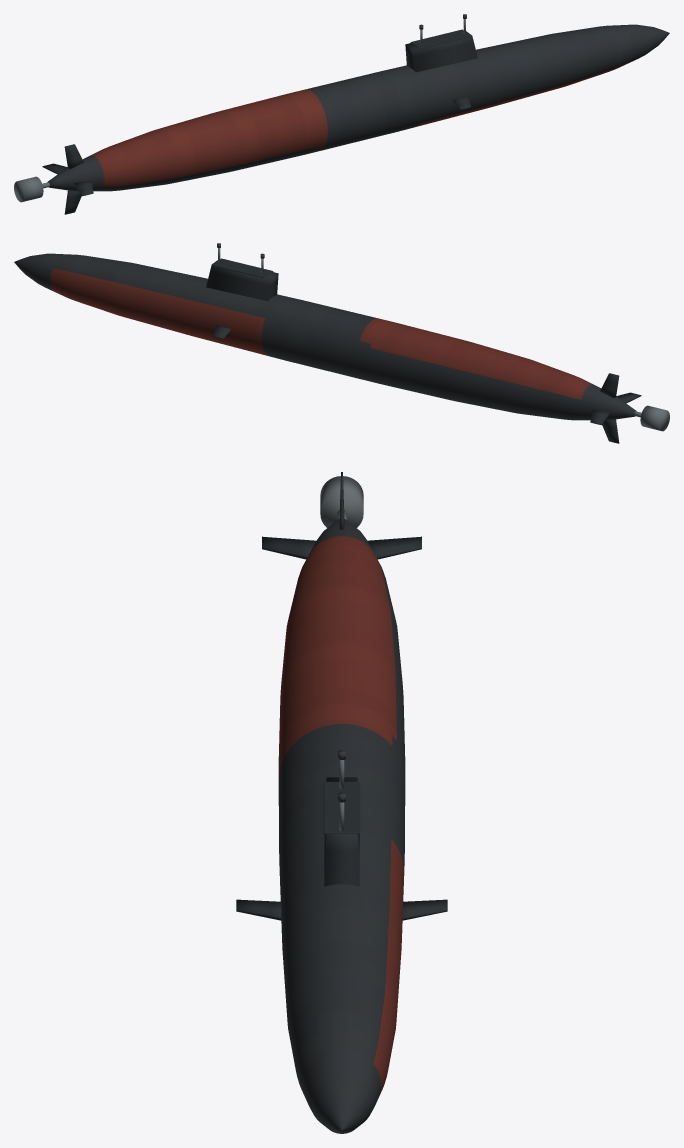
File: FR_SSN_Suffren.glb
3 views of the same model, one above another, from view 1: azimuth 30°, elevation 25°; view 2: azimuth 150°, elevation 25°; view 3: azimuth 270°, elevation 25° (orthographic). The views are drawn at different scales.
Visible parts, largest first — view 1: FR_SSN_Suffren_LOD0; view 2: FR_SSN_Suffren_LOD0; view 3: FR_SSN_Suffren_LOD0.
Part boxes in pixels (left/top/right/bottom): FR_SSN_Suffren_LOD0: left=14, top=14, right=669, bottom=214; FR_SSN_Suffren_LOD0: left=14, top=243, right=669, bottom=443; FR_SSN_Suffren_LOD0: left=236, top=472, right=447, bottom=1133.
Bounding box in the file's own units: 104 × 15.62 × 14.66.
6 materials, 1 textured.
